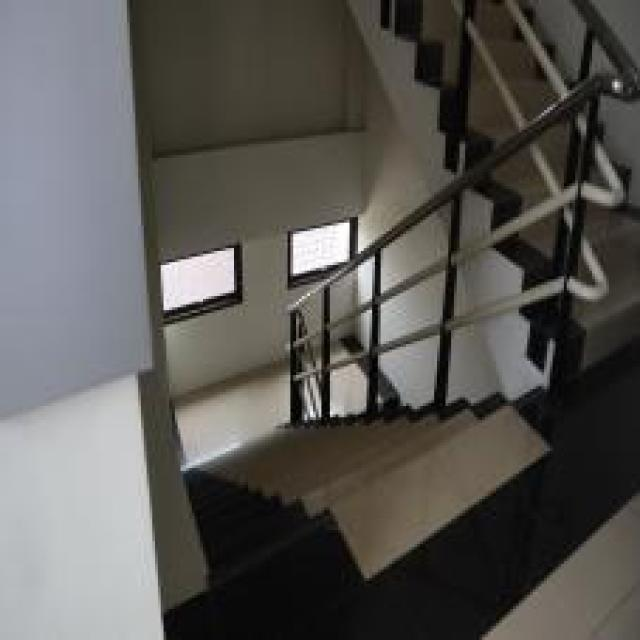downstair: (184, 410, 565, 638)
